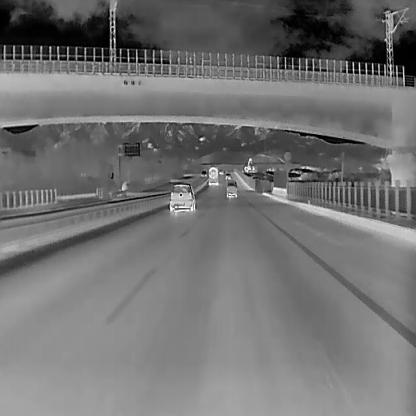car: (168, 182, 195, 212), (226, 180, 237, 198), (199, 169, 206, 177), (225, 172, 231, 180), (219, 169, 224, 175)
truck: (207, 165, 218, 186)
